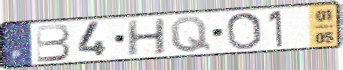1: (268, 9, 285, 49)
4: (76, 19, 113, 61)
B: (34, 22, 73, 63)
H: (125, 17, 168, 57)
O: (225, 11, 263, 51)
Q: (168, 15, 213, 54)
